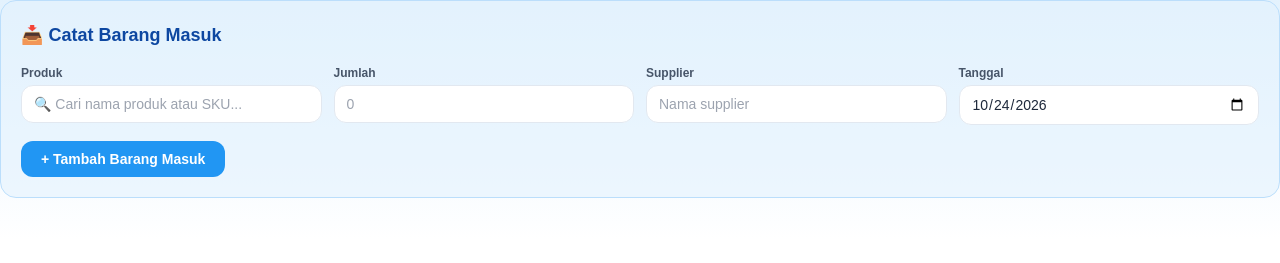
BarangMasukForm › shows error when jumlah is 0
Type "BS-001" into the field with placeholder "🔍 Cari nama produk atau SKU..." at (171, 104), box [21,85,322,123]
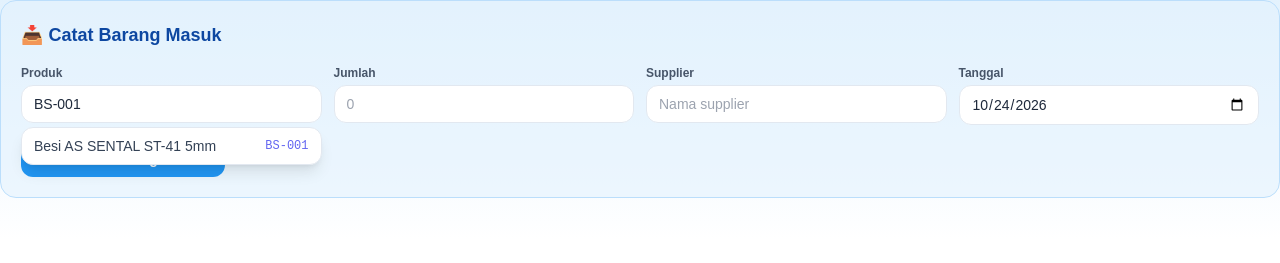
Click the text "BS-001" at (287, 146), box [265,138,308,154]
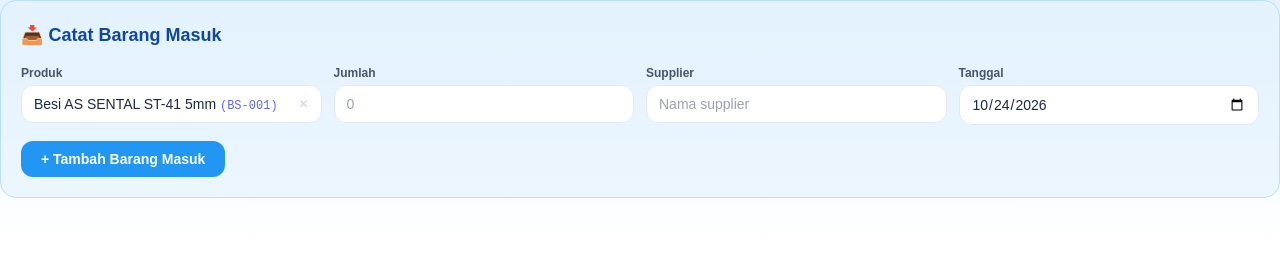
Click the button "+ Tambah Barang Masuk" at (123, 159), box [21,141,225,177]
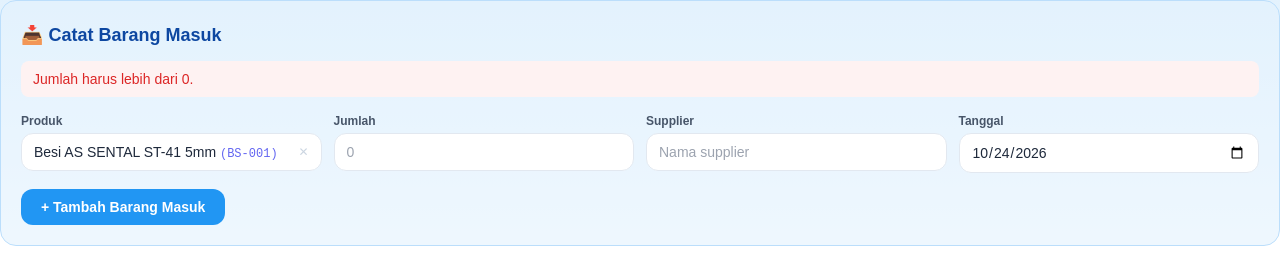
Now the message shows "Jumlah", box [33,71,193,87]
